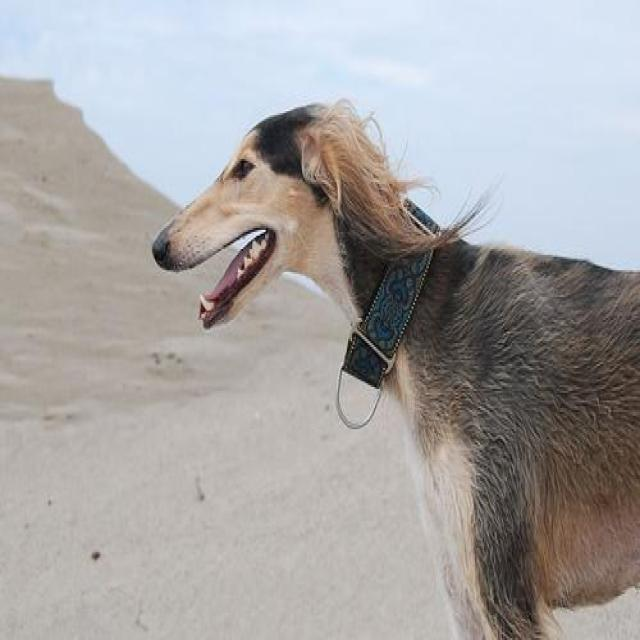saluki: (151, 98, 639, 638)
